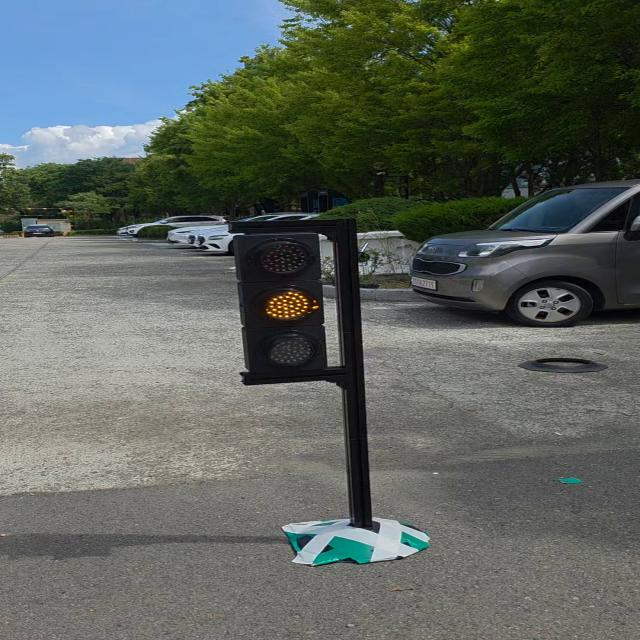yellow: (241, 230, 326, 379)
